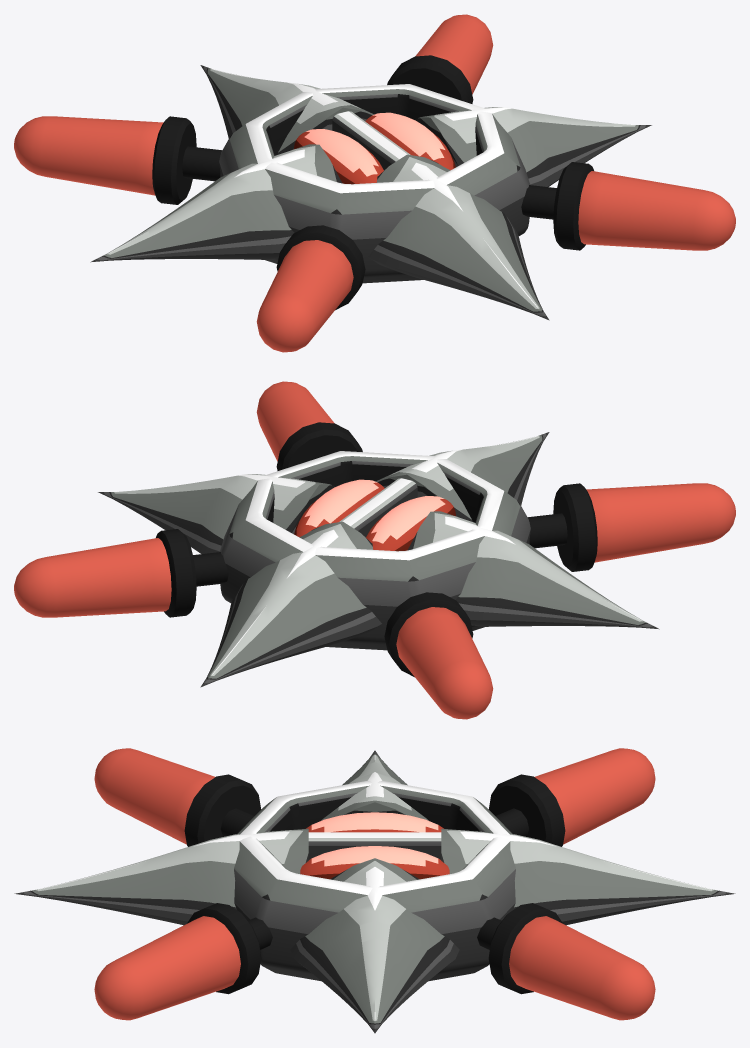
File: spike_star.glb
3 renders of one model, top to bottom at view 1: azimuth 30°, elevation 25°; view 2: azimuth 150°, elevation 25°; view 3: azimuth 270°, elevation 25°, orthographic. The views are drawn at different scales.
Visible parts, largest first — view 1: spike_star; view 2: spike_star; view 3: spike_star.
Part boxes in pixels (left/top/right/bottom): spike_star: left=14, top=14, right=735, bottom=352; spike_star: left=14, top=381, right=735, bottom=719; spike_star: left=14, top=748, right=735, bottom=1033.
Size of the model in its own units: 22.3 by 3.84 by 24.
